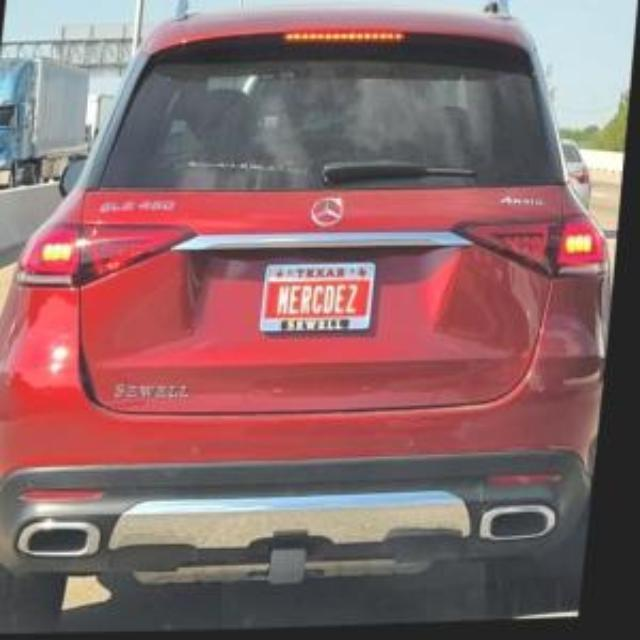License Plate: (260, 264, 376, 332)
